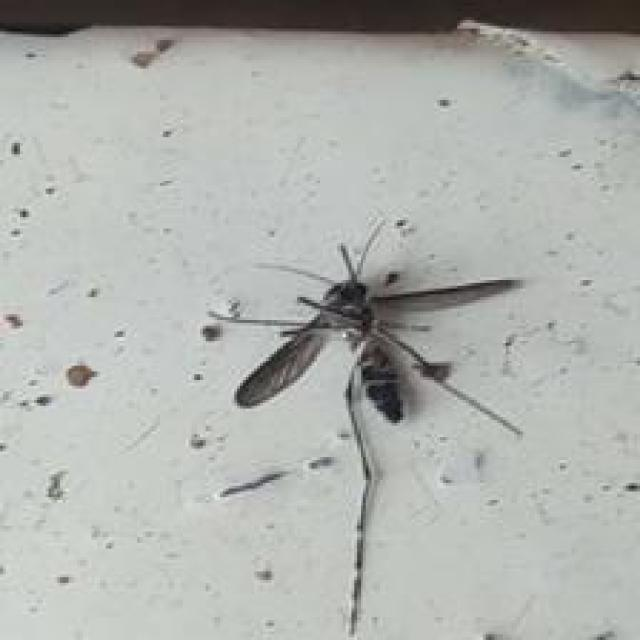Aedes albopictus: (205, 215, 526, 634)
